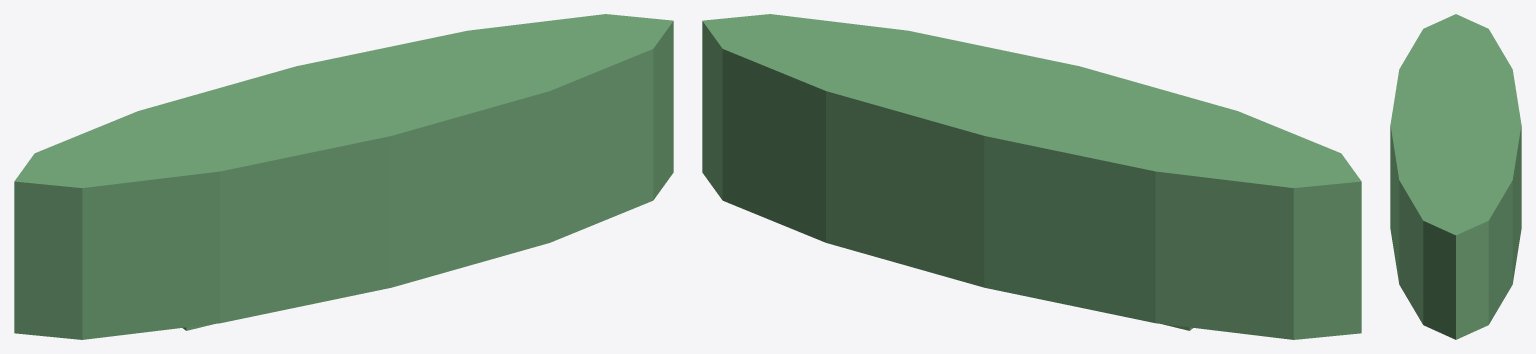
Rendered from hedge.glb.
3 renders of one model, left to right at view 1: azimuth 30°, elevation 25°; view 2: azimuth 150°, elevation 25°; view 3: azimuth 270°, elevation 25°, orthographic. The views are drawn at different scales.
Visible parts, largest first — view 1: Hedge_Top; view 2: Hedge_Top; view 3: Hedge_Top.
Boxes of the visible parts, left/top/right/bottom form: Hedge_Top: left=14, top=14, right=673, bottom=339; Hedge_Top: left=702, top=14, right=1361, bottom=339; Hedge_Top: left=1390, top=14, right=1521, bottom=339.
Size of the model in its own units: 2 by 0.4875 by 0.5.
